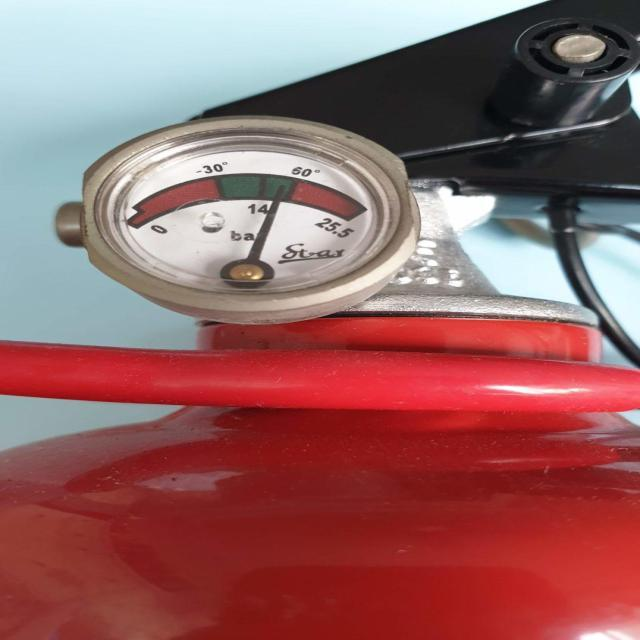pressure gauge: (81, 117, 418, 322)
